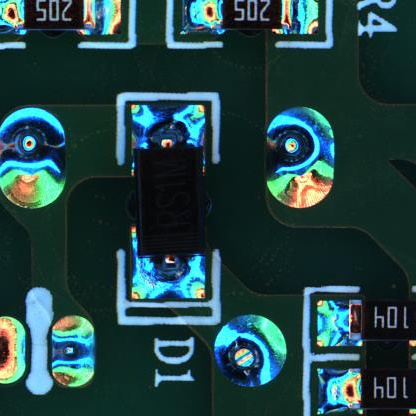spot: (260, 99, 340, 212), (210, 305, 293, 391), (47, 303, 101, 394)
